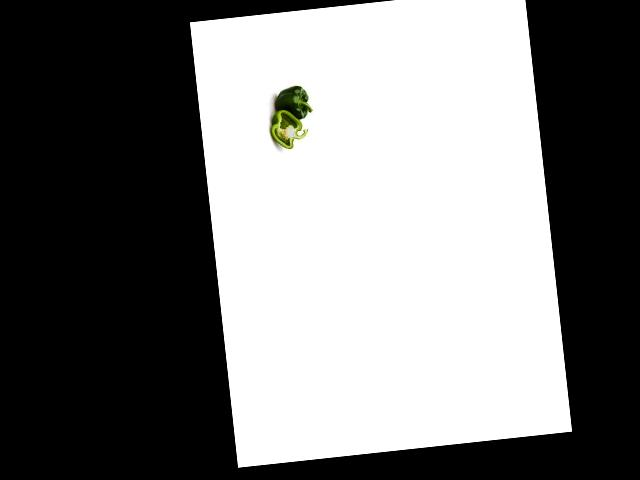bell_pepper: (269, 105, 311, 152)
